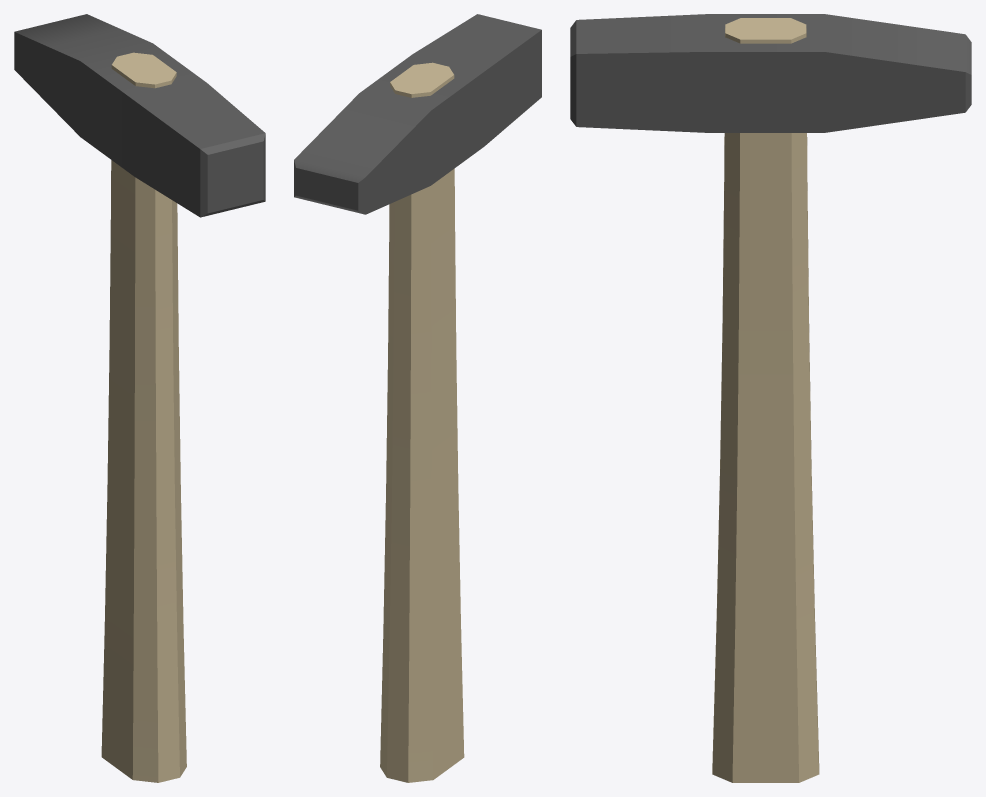
File: hammer.glb
3 views of the same model, side by side, from view 1: azimuth 30°, elevation 25°; view 2: azimuth 150°, elevation 25°; view 3: azimuth 270°, elevation 25° (orthographic). The views are drawn at different scales.
Visible parts, largest first — view 1: simple_hammer; view 2: simple_hammer; view 3: simple_hammer.
Boxes of the visible parts, bbox=[...] form: simple_hammer: bbox=[14, 14, 265, 782]; simple_hammer: bbox=[294, 14, 541, 782]; simple_hammer: bbox=[570, 14, 971, 782].
Size of the model in its own units: 0.1578 by 1.44 by 0.7066.
